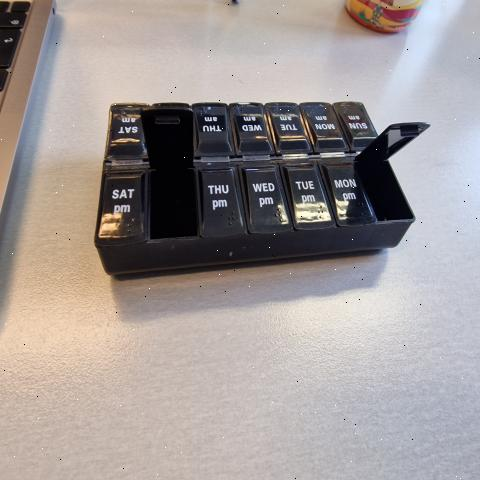Open: (141, 105, 202, 243), (357, 122, 428, 223)
